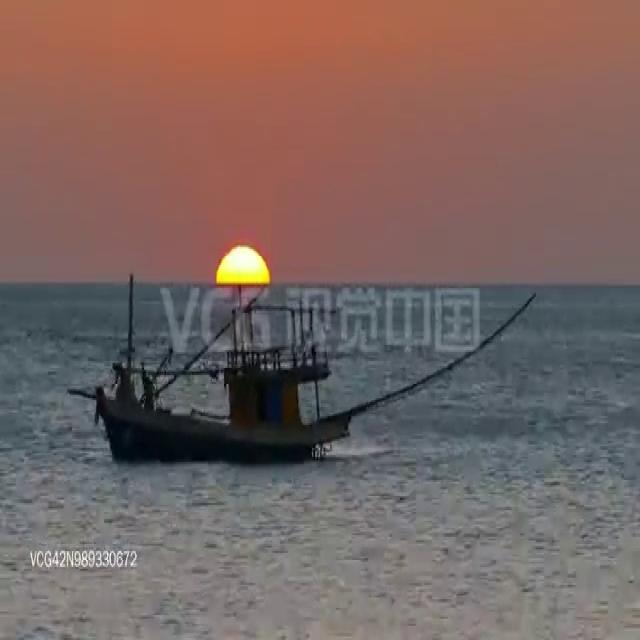fishing boat: (83, 270, 385, 462)
